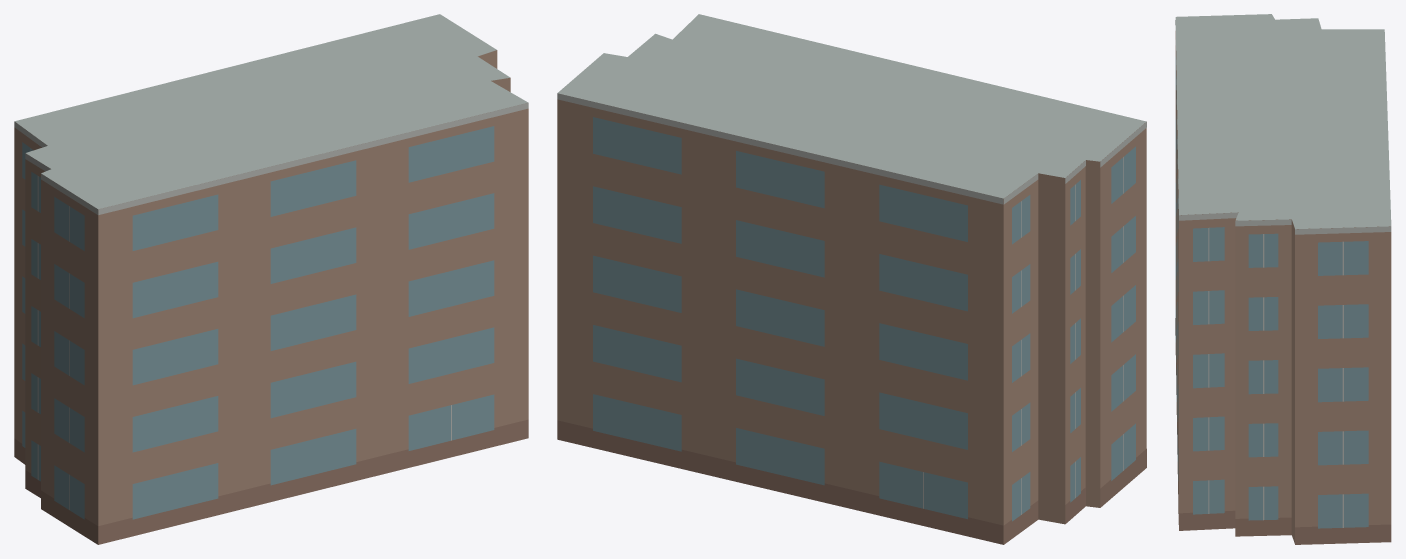
File: survey-upis-32607067.glb
The picture shows the model from 3 angles, left to right: view 1: azimuth 30°, elevation 25°; view 2: azimuth 150°, elevation 25°; view 3: azimuth 270°, elevation 25°; orthographic projection. The views are drawn at different scales.
Parts seen in each view (by area): view 1: survey-upis-32607067.tmp; view 2: survey-upis-32607067.tmp; view 3: survey-upis-32607067.tmp.
Boxes of the visible parts, left/top/right/bottom form: survey-upis-32607067.tmp: left=14, top=14, right=528, bottom=544; survey-upis-32607067.tmp: left=557, top=14, right=1146, bottom=544; survey-upis-32607067.tmp: left=1175, top=14, right=1391, bottom=544.
Size of the model in its own units: 20.18 by 13.8 by 8.56.
